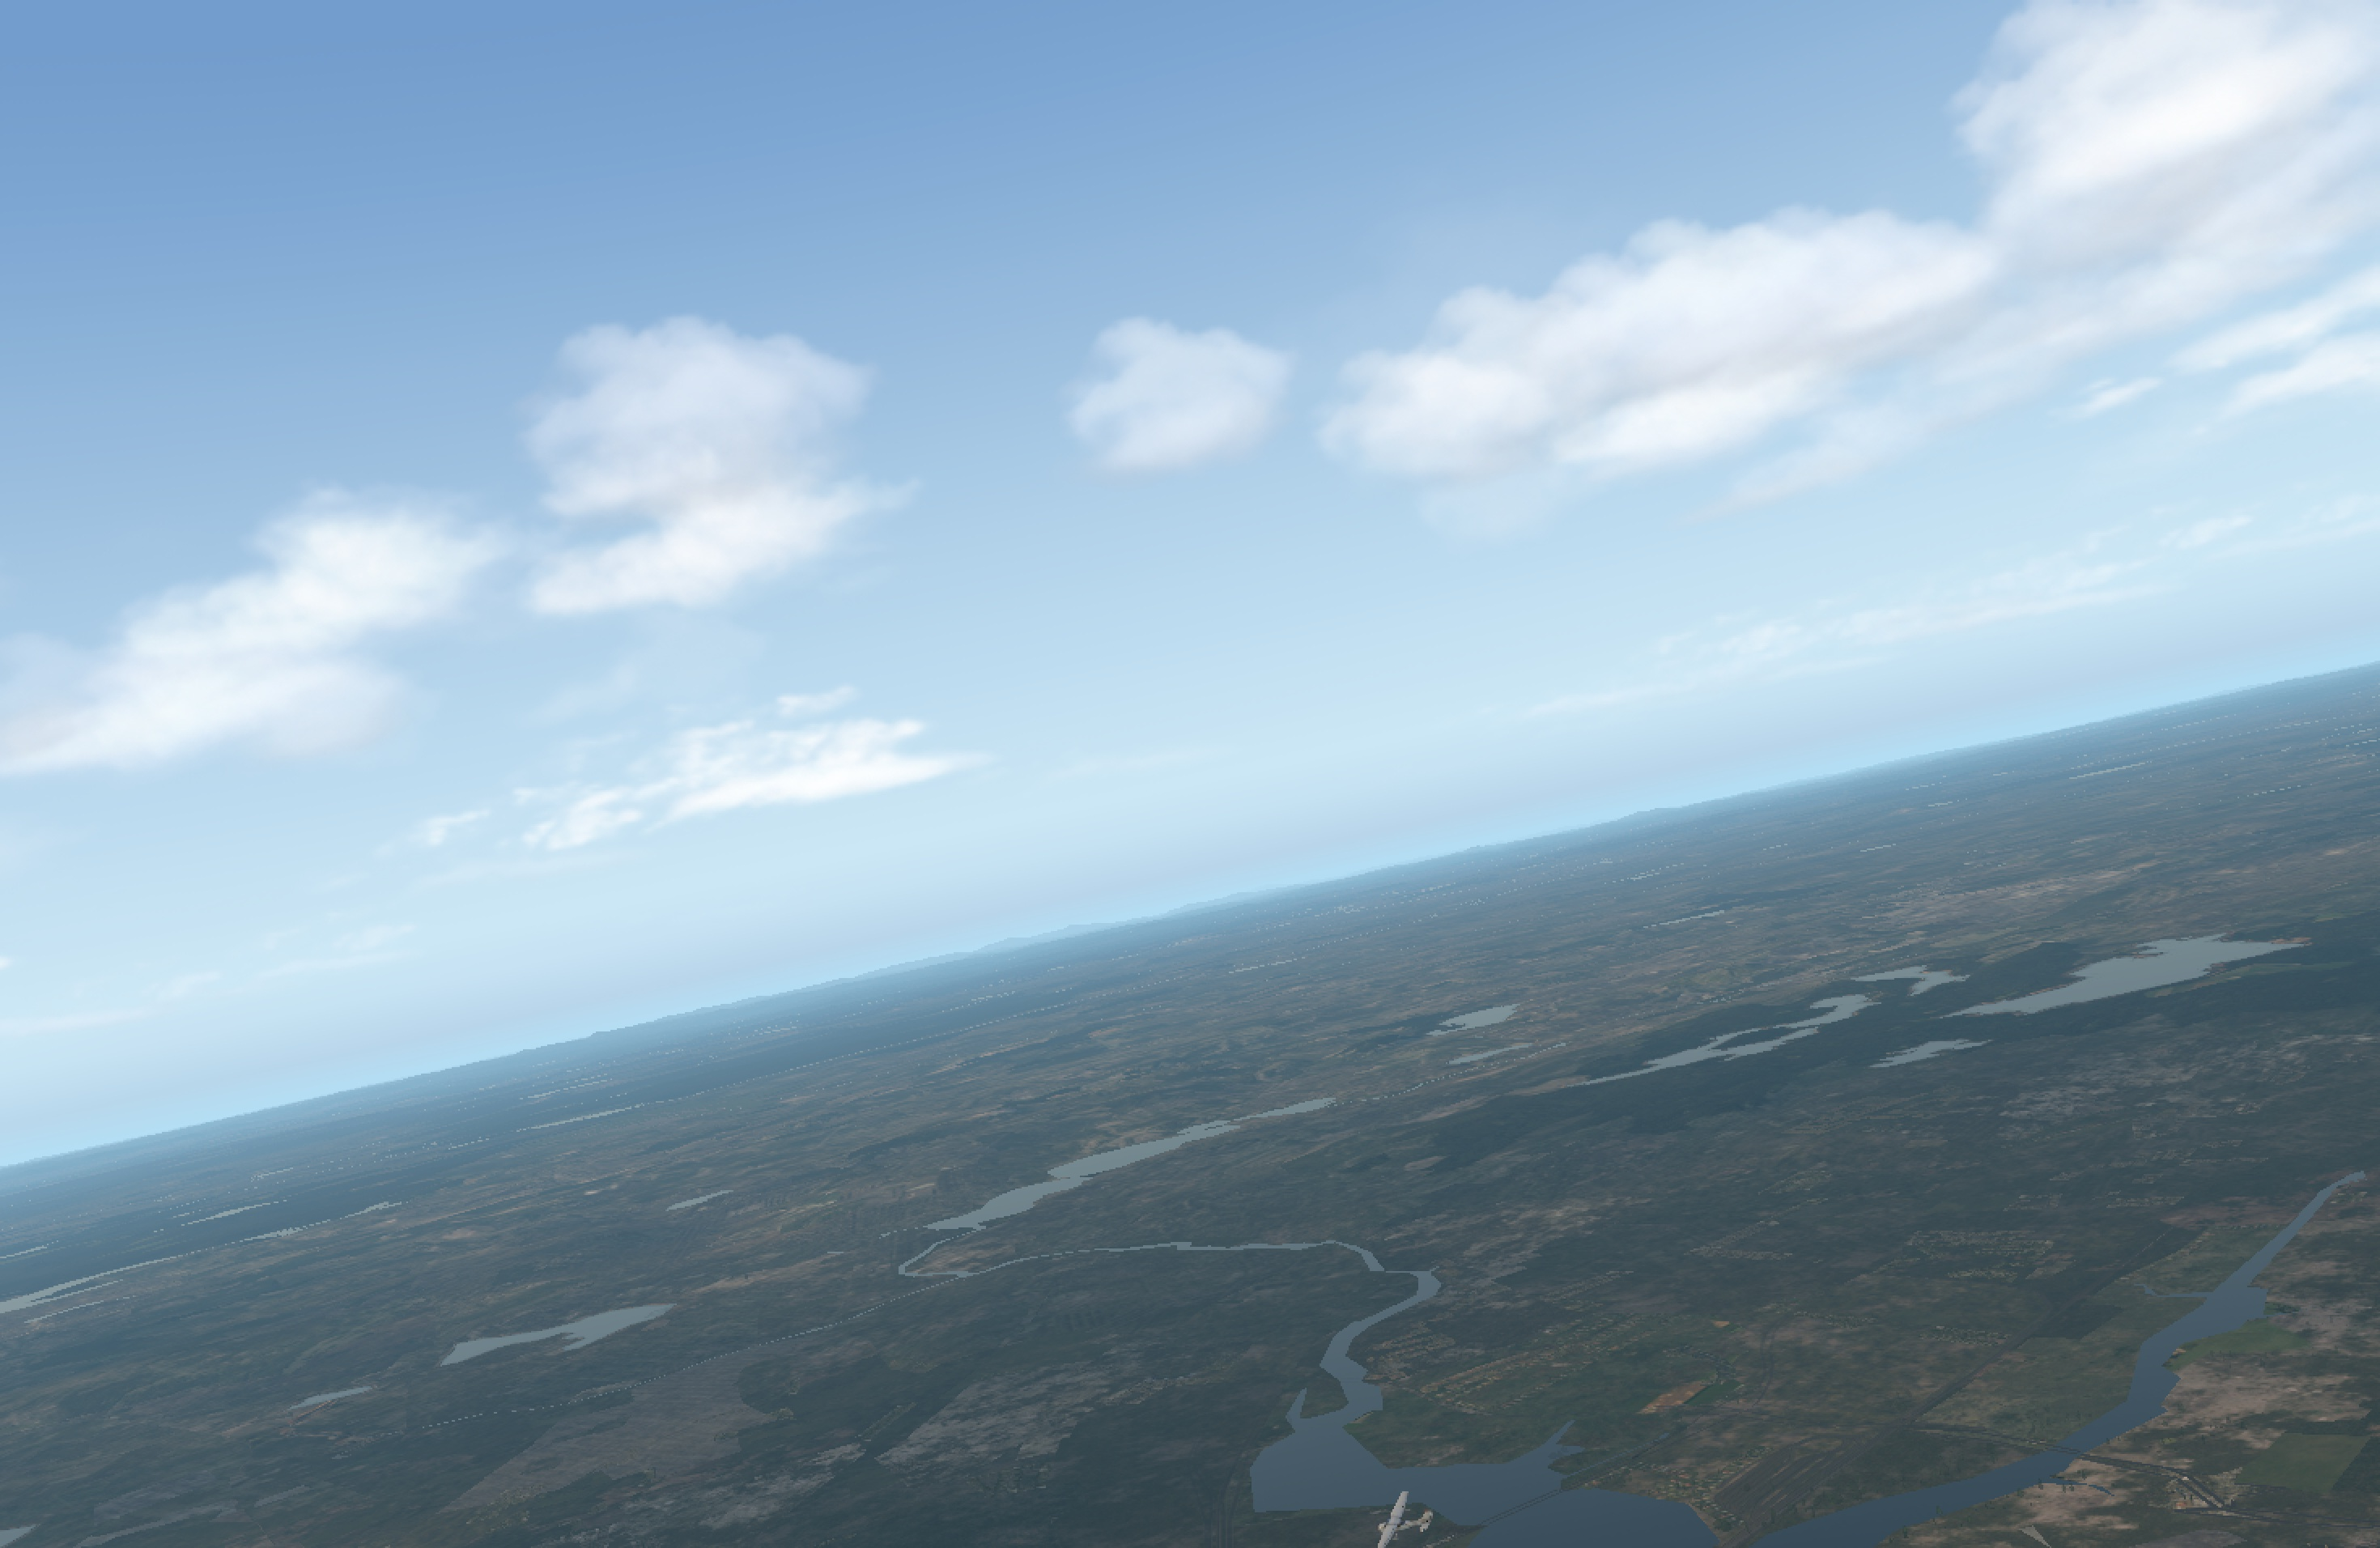aircraft: (1363, 1513, 1422, 1536)
